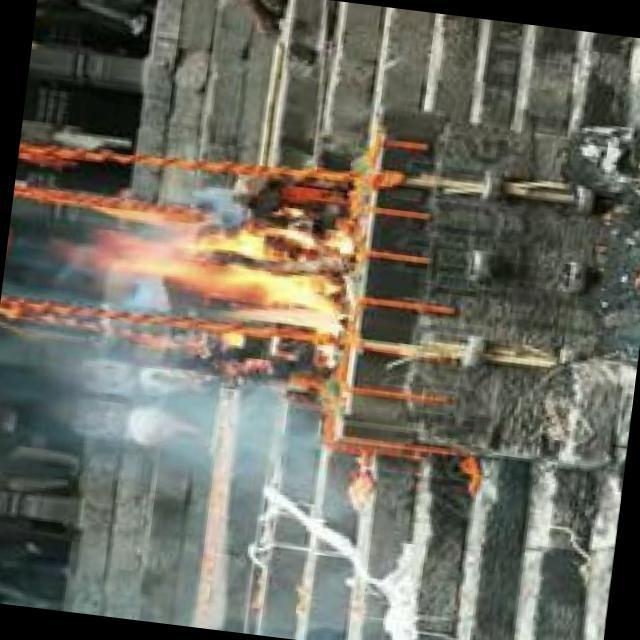Fire: (82, 198, 355, 338)
